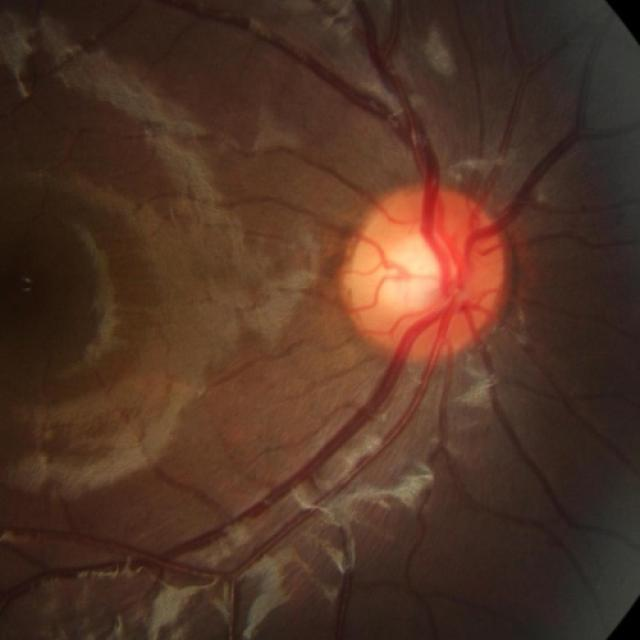OC: (382, 234, 456, 310)
OD: (346, 186, 505, 359)
